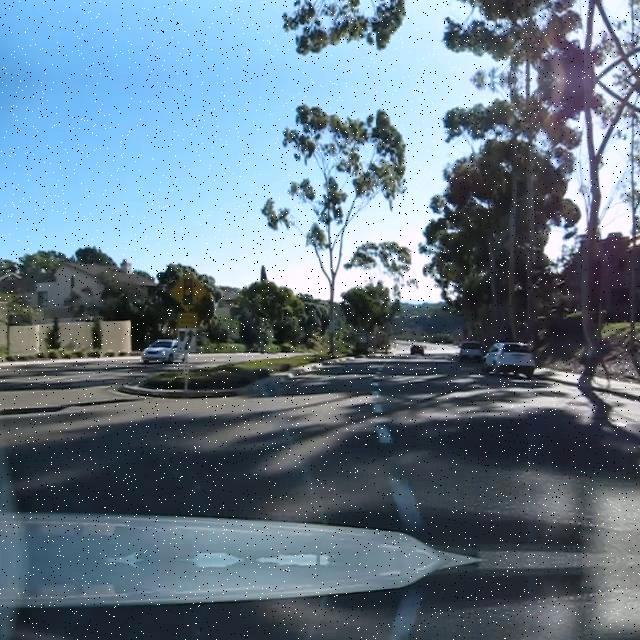signalAhead: (168, 270, 206, 312)
